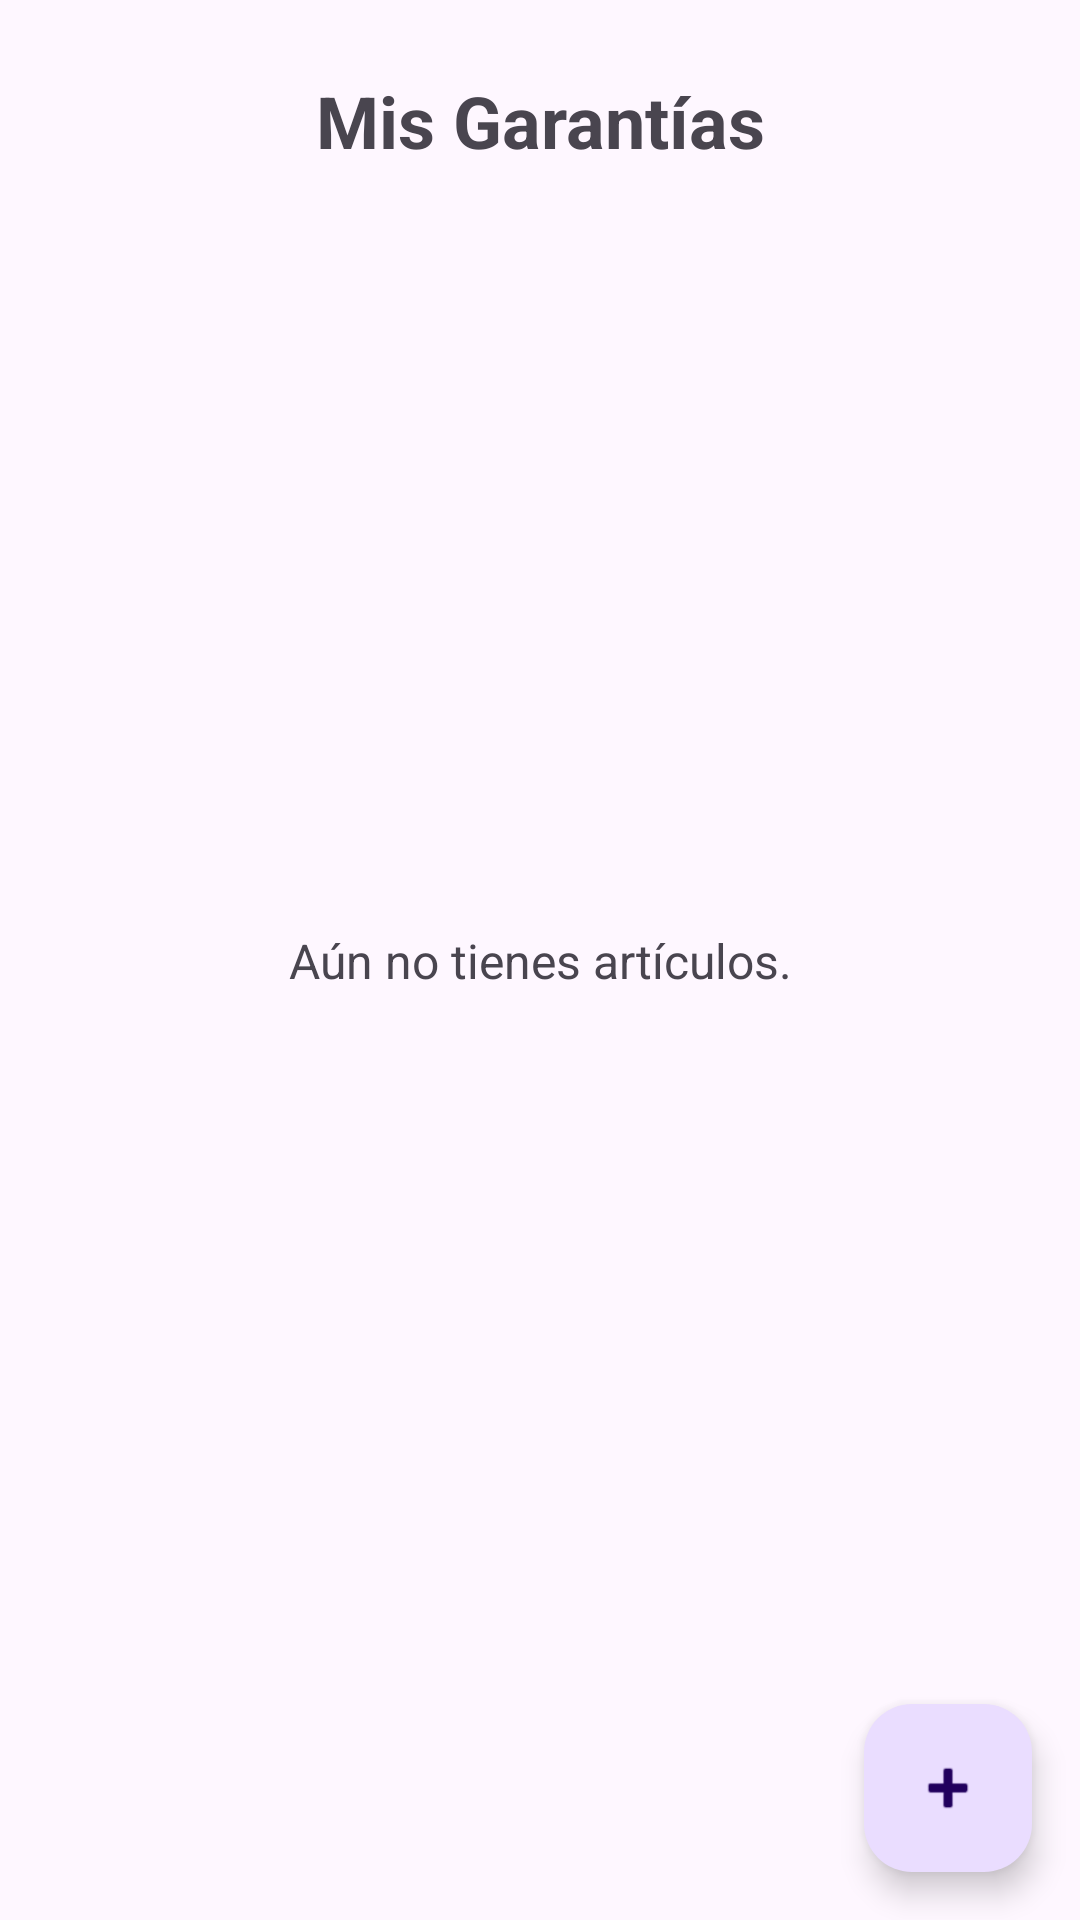

Locate icon controls on the screen. Image size 1080x1920, boxes as box(x1, y1, x2, y2).
Añadir nuevo artículo: box(864, 1704, 1032, 1872)
